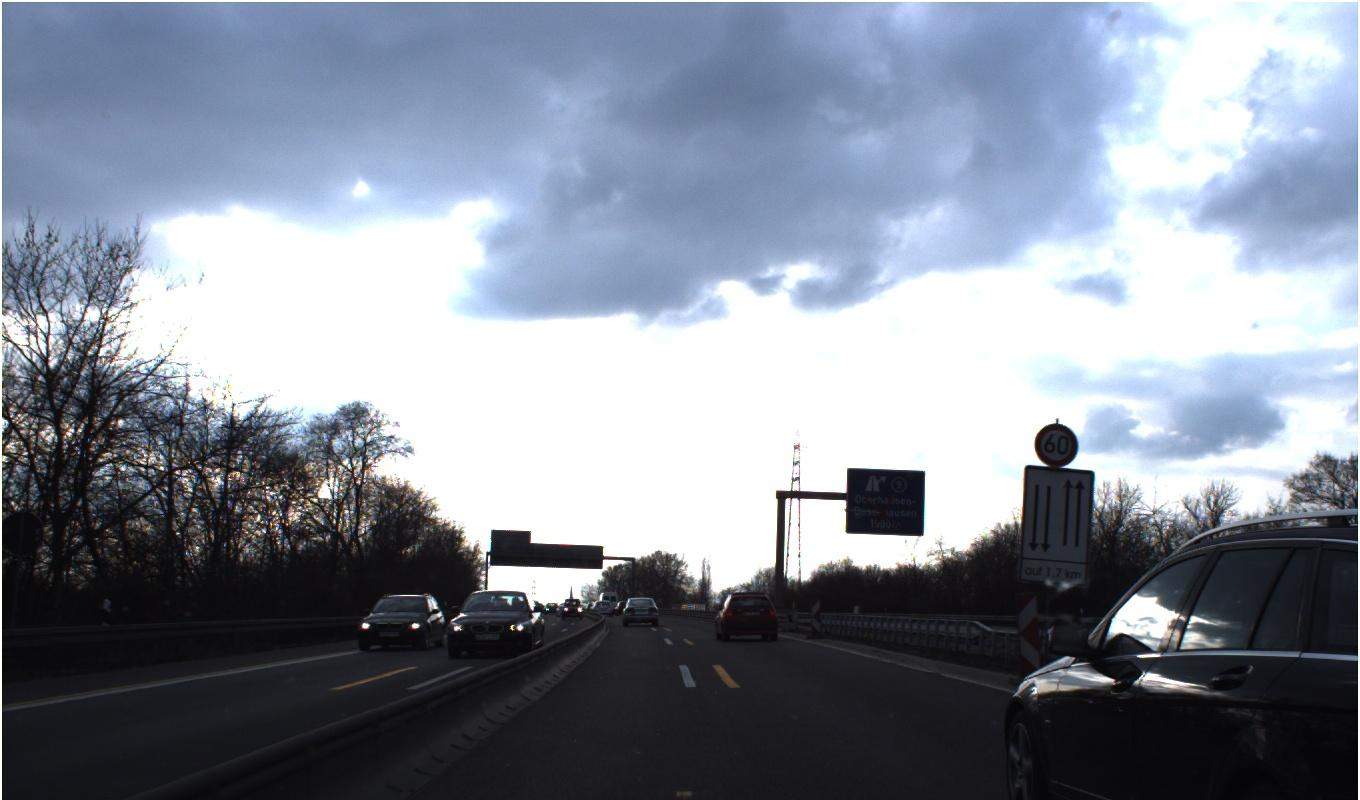speed limit 60: (493, 187, 1360, 655)
